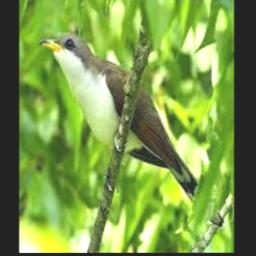Cuckoo: (39, 33, 224, 226)
